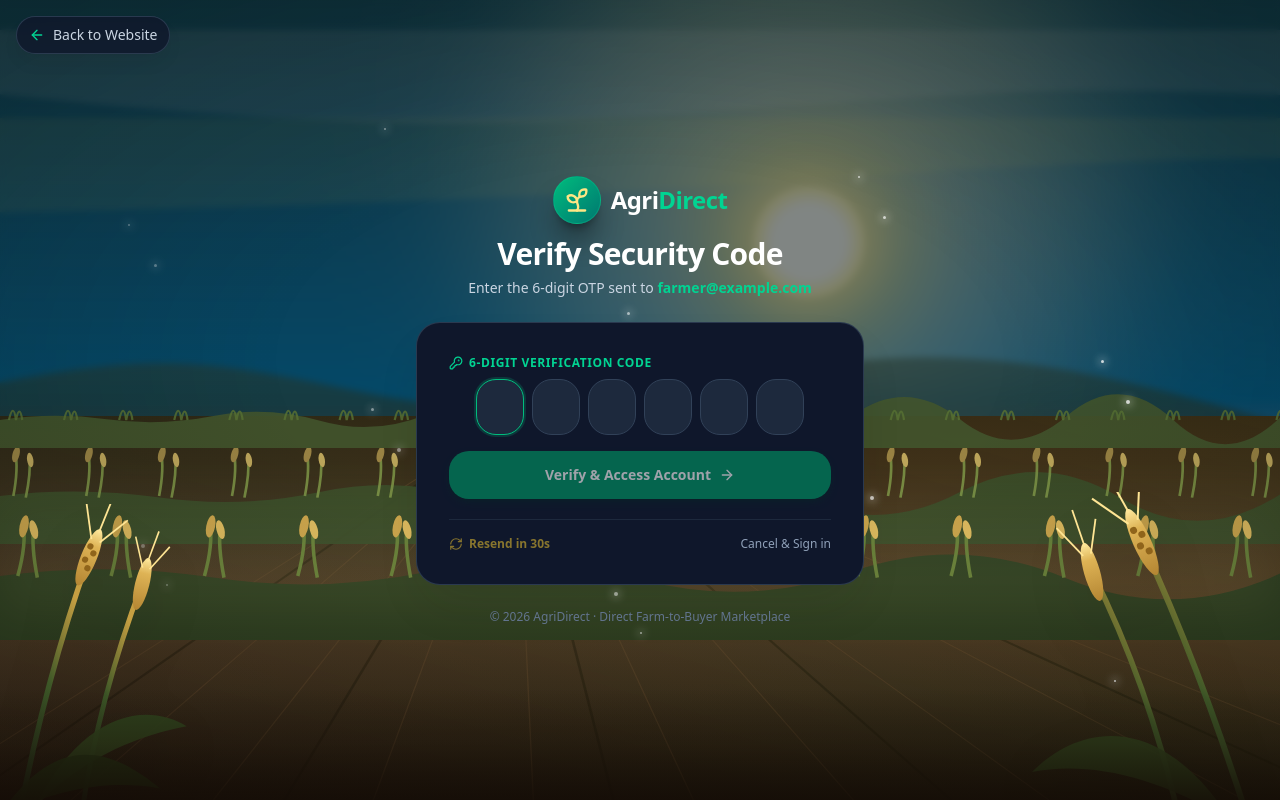
VerifyPage › keeps the submit button disabled until all six digits are entered
Expected: the button "Verify & Access Account" is disabled, 449,450 -> 831,498
Type "1" into the field named "Digit 1" at (500, 406), box 476,378 -> 524,434
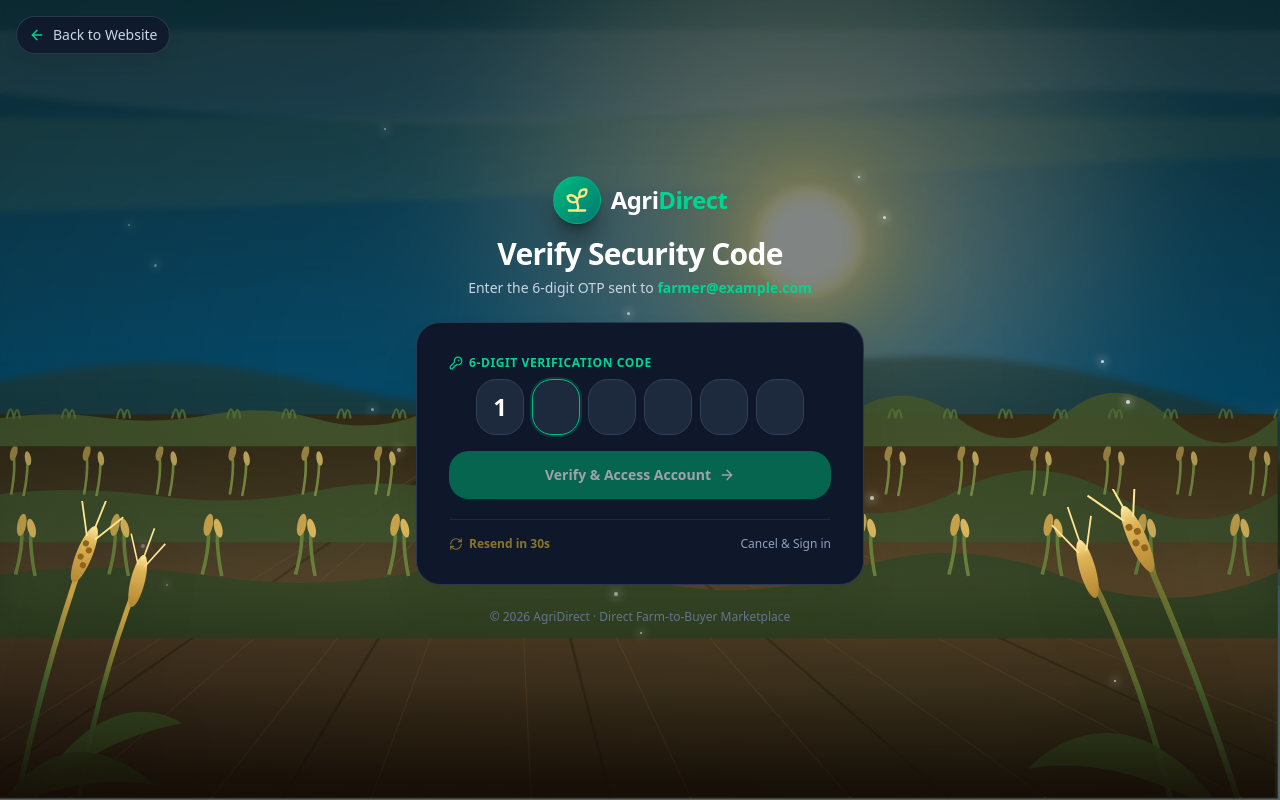
Type "2" into the field named "Digit 2" at (556, 406), box 532,378 -> 580,434
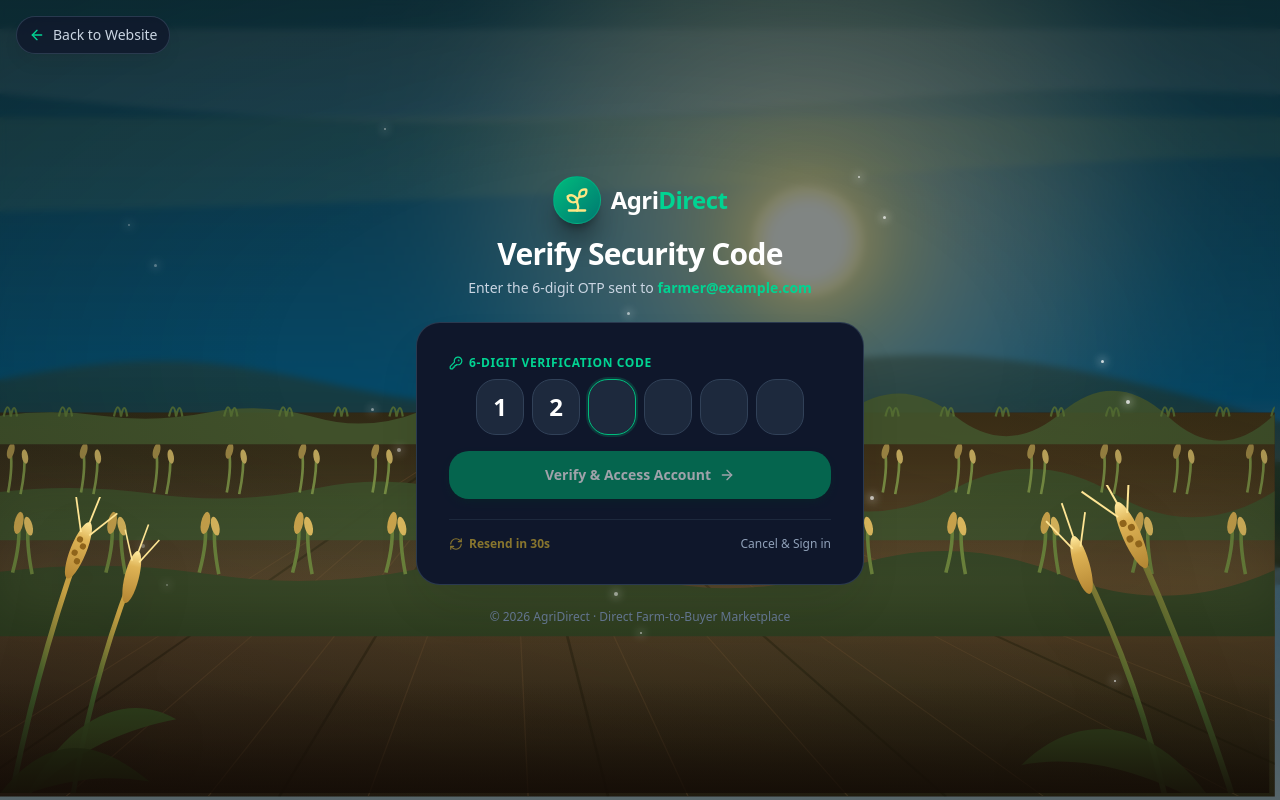
Type "3" into the field named "Digit 3" at (612, 406), box 588,378 -> 636,434
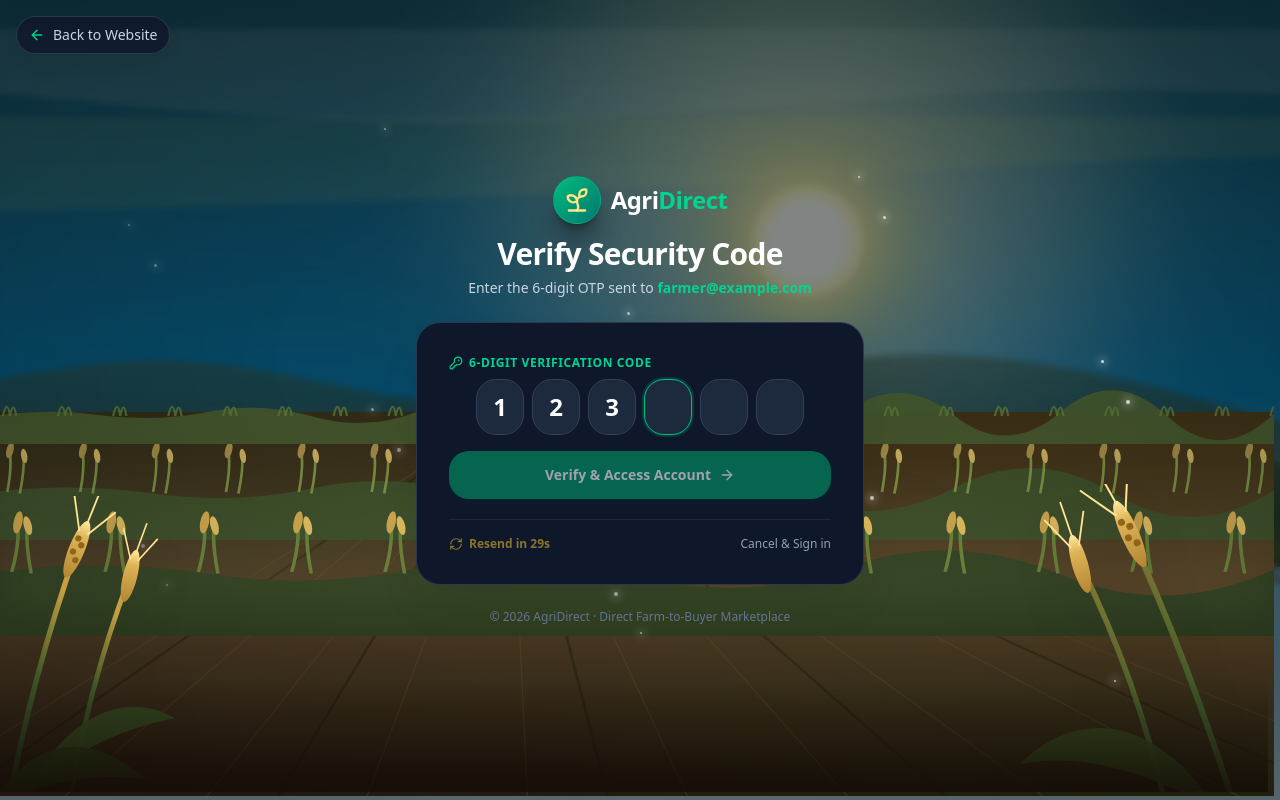
Type "4" into the field named "Digit 4" at (668, 406), box 644,378 -> 692,434
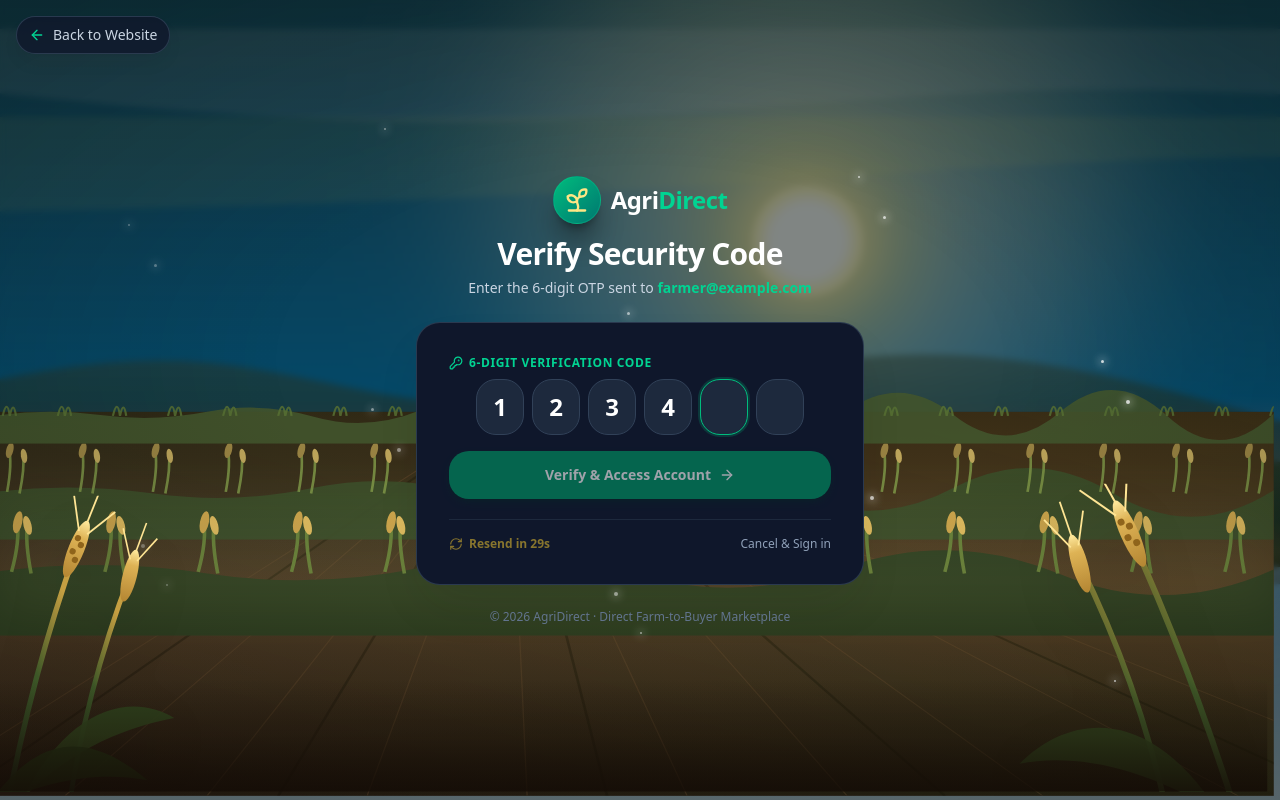
Type "5" into the field named "Digit 5" at (724, 406), box 700,378 -> 748,434
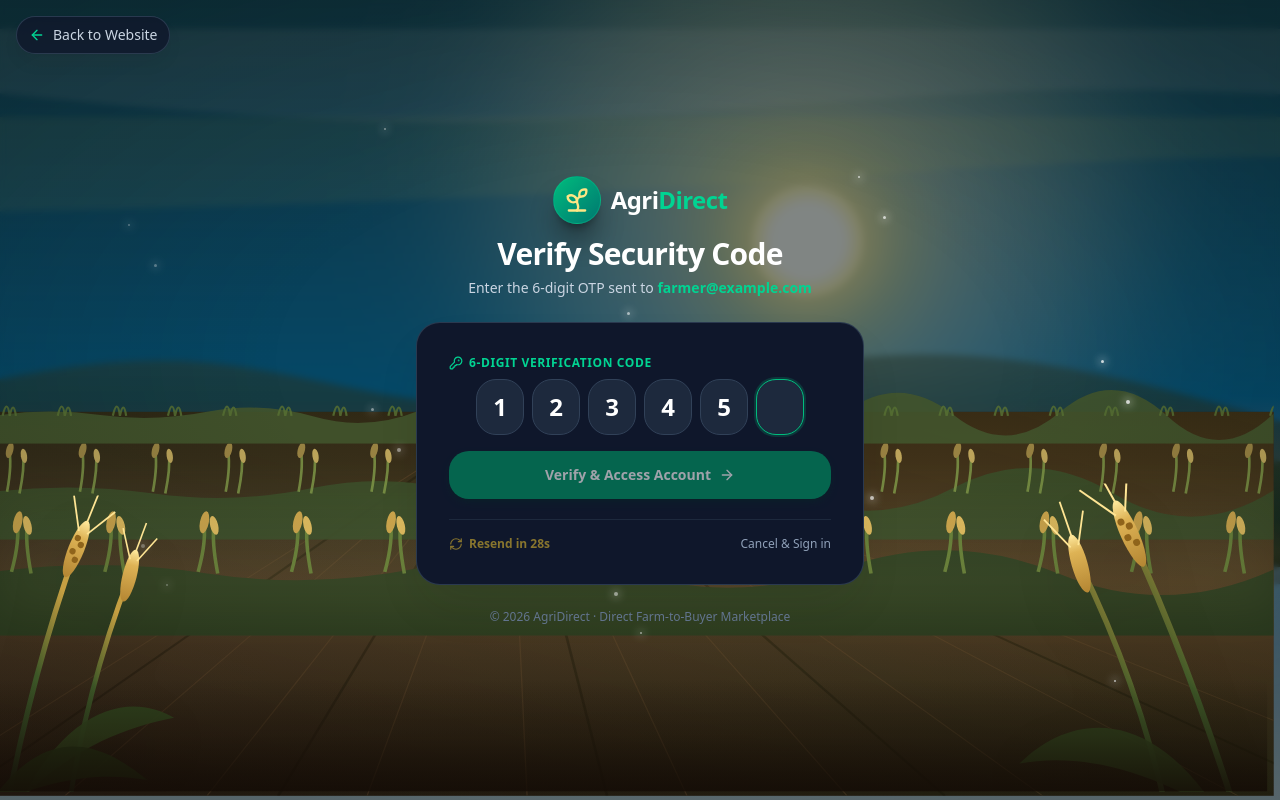
Type "6" into the field named "Digit 6" at (780, 406), box 756,378 -> 804,434
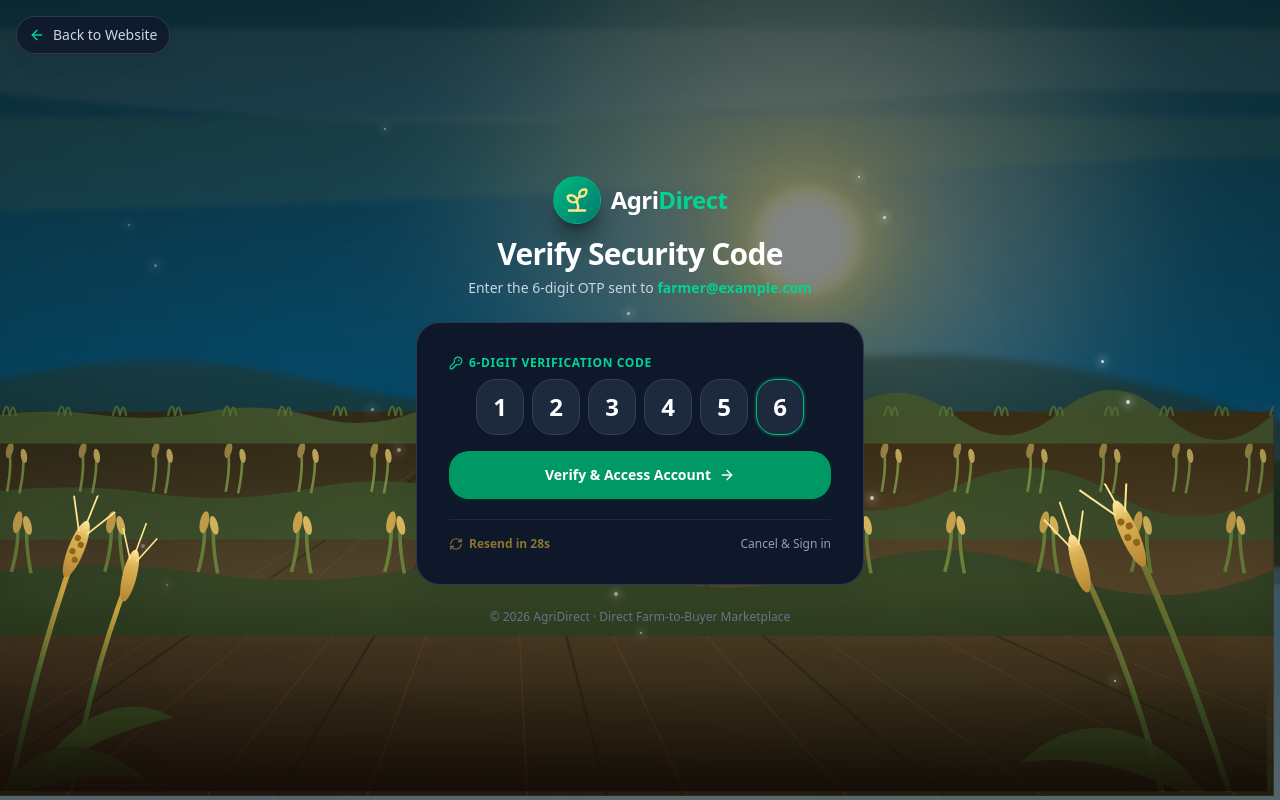
Expected: the button "Verify & Access Account" is enabled, 449,450 -> 831,498
